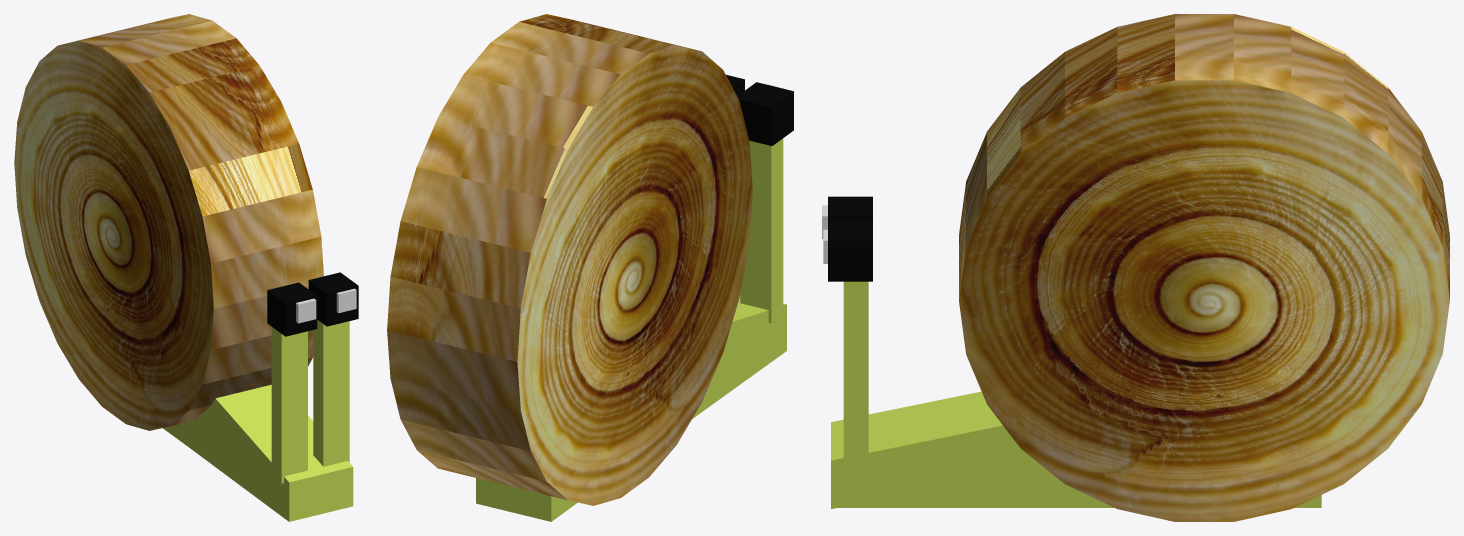
Rendered from Snail.fbx.
The picture shows the model from 3 angles, left to right: view 1: azimuth 30°, elevation 25°; view 2: azimuth 150°, elevation 25°; view 3: azimuth 270°, elevation 25°; orthographic projection. The views are drawn at different scales.
Visible parts, largest first — view 1: Cylinder, Cube, Cube.001, Cube.002, Cube.003, Cube.004, Cube.006, Cube.005; view 2: Cylinder, Cube, Cube.001, Cube.003; view 3: Cylinder, Cube, Cube.002, Cube.004, Cube.003.
Boxes of the visible parts, x1=… form: Cylinder: x1=14, y1=14, x2=323, y2=430; Cube: x1=163, y1=384, x2=353, y2=521; Cube.001: x1=271, y1=327, x2=307, y2=483; Cube.002: x1=313, y1=320, x2=349, y2=466; Cube.003: x1=267, y1=282, x2=317, y2=336; Cube.004: x1=308, y1=272, x2=358, y2=326; Cube.006: x1=296, y1=298, x2=316, y2=323; Cube.005: x1=336, y1=288, x2=356, y2=313; Cylinder: x1=387, y1=14, x2=752, y2=505; Cube: x1=476, y1=294, x2=786, y2=521; Cube.001: x1=740, y1=138, x2=783, y2=323; Cube.003: x1=737, y1=82, x2=793, y2=145; Cylinder: x1=959, y1=14, x2=1449, y2=521; Cube: x1=831, y1=391, x2=1321, y2=508; Cube.002: x1=843, y1=281, x2=868, y2=467; Cube.004: x1=828, y1=221, x2=872, y2=281; Cube.003: x1=828, y1=196, x2=872, y2=221.
Bounding box in the file's own units: 63.93 × 199 × 256.
